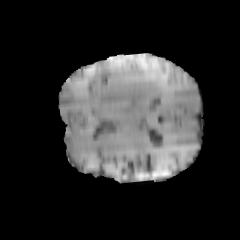glioma: (94, 64, 164, 113)
